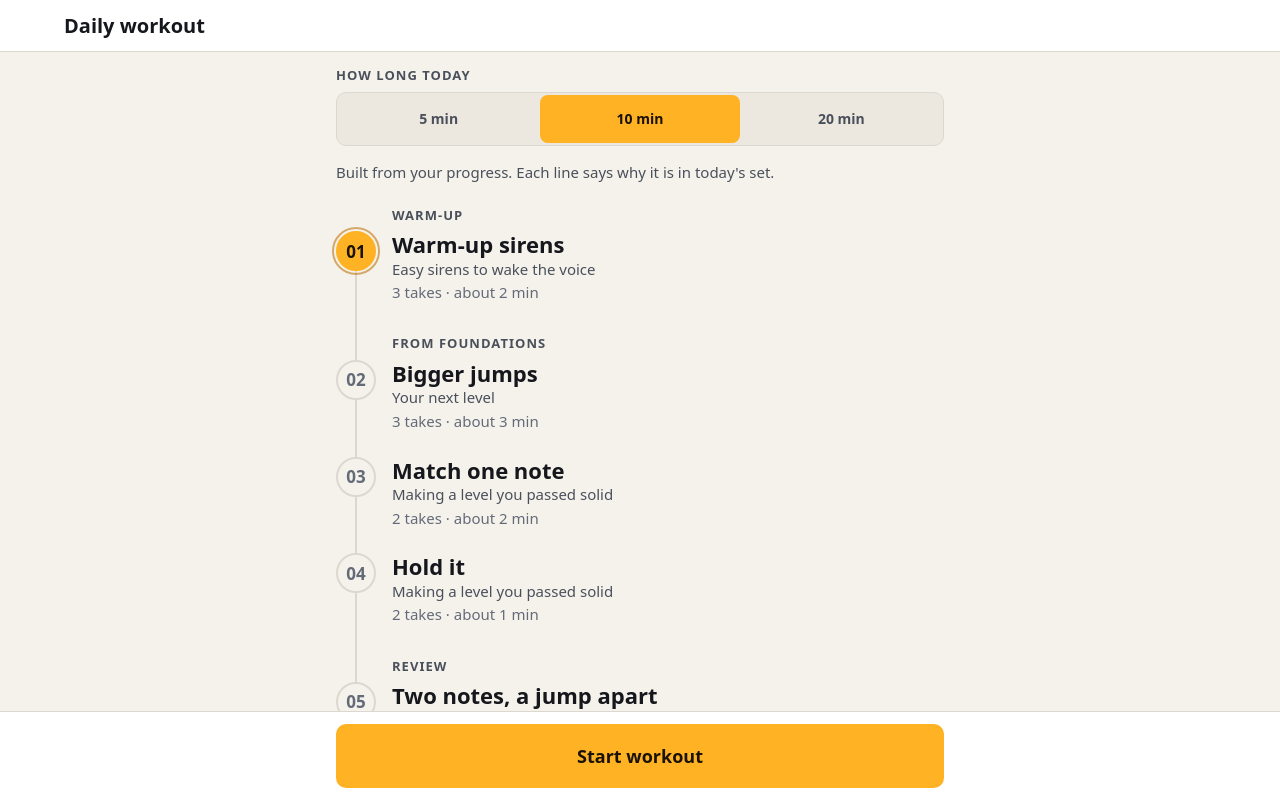
Test case: Workout: before › saves the length chosen and rebuilds the plan for it
The width and height of the screenshot is (1280, 800).
Click the radio button labelled "20 min": click(841, 119) 742,95 -> 941,143
(page scrolled)
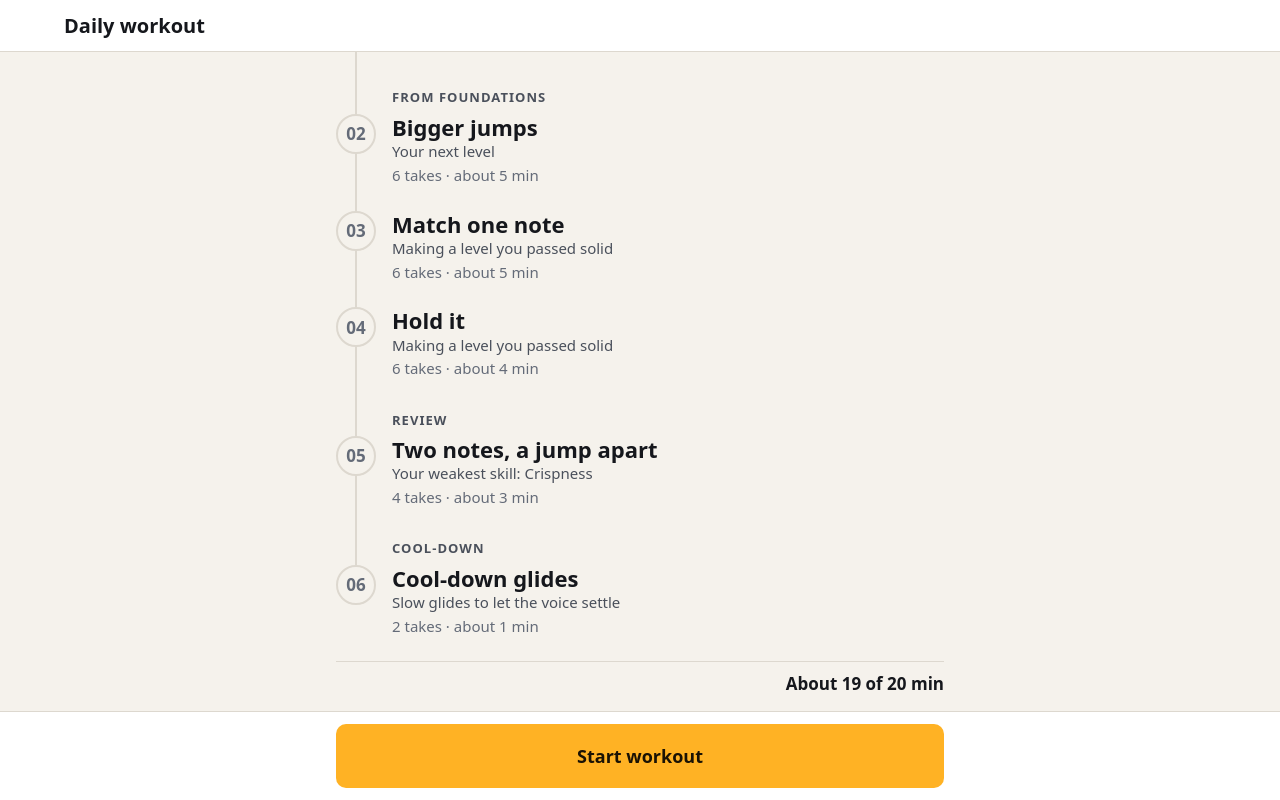
Result: the text with test id "workout-total" shows "of 20 min" at 786,672 -> 944,696
